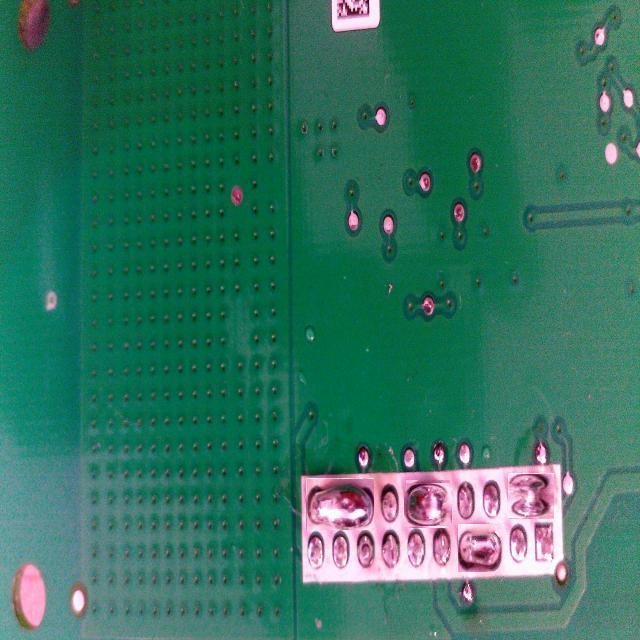Short_circuit: (306, 478, 374, 530), (405, 481, 451, 527), (458, 524, 502, 572), (509, 473, 554, 519)
